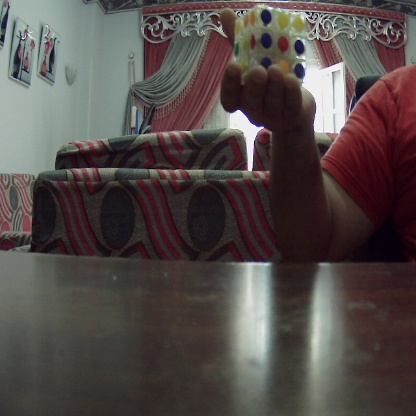Rubix Cube: (231, 13, 309, 73)
